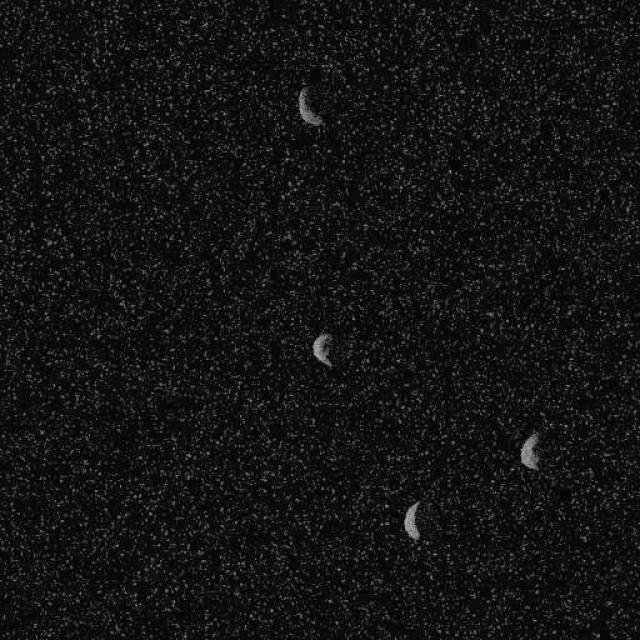D2: (296, 84, 324, 128), (519, 430, 541, 470), (402, 499, 422, 541), (311, 332, 334, 368)
